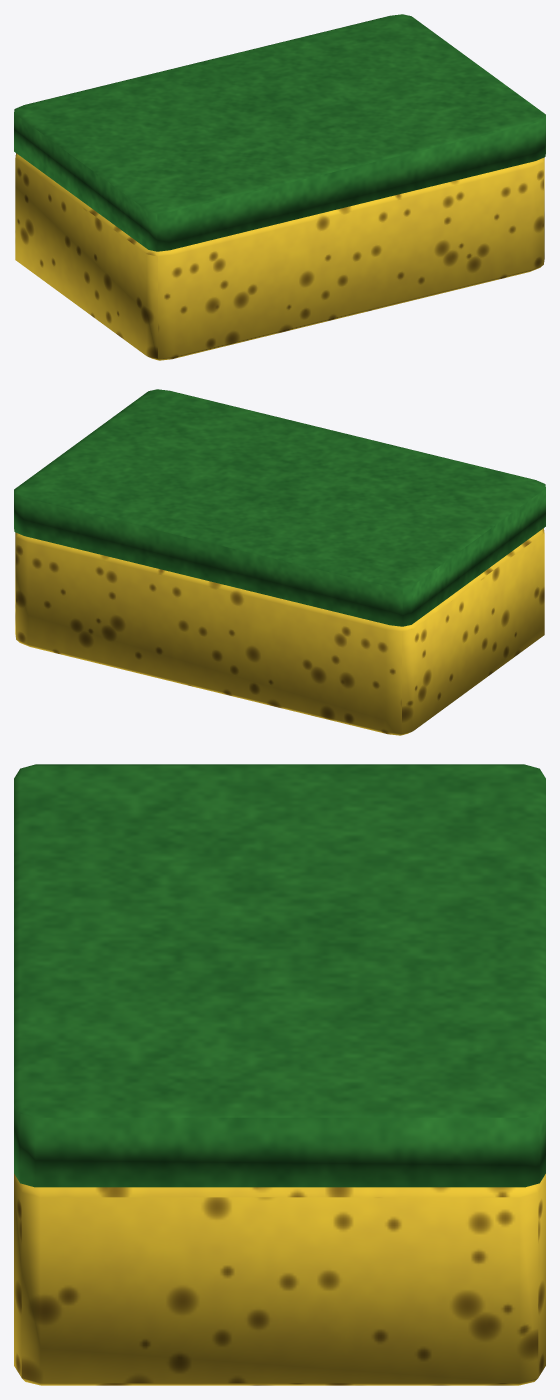
The model's file is kitchen_sponge.glb.
3 views of the same model, one above another, from view 1: azimuth 30°, elevation 25°; view 2: azimuth 150°, elevation 25°; view 3: azimuth 270°, elevation 25° (orthographic). The views are drawn at different scales.
Parts seen in each view (by area): view 1: Cube.001, Cube; view 2: Cube.001, Cube; view 3: Cube.001, Cube.
Part boxes in pixels (box(x1,y1,x2,y2)): Cube.001: box(14, 14, 545, 251); Cube: box(15, 153, 544, 360); Cube.001: box(14, 389, 545, 626); Cube: box(15, 528, 544, 735); Cube.001: box(14, 764, 545, 1187); Cube: box(14, 1174, 545, 1385).
Bounding box in the file's own units: 2.2 × 0.81 × 1.4.
Materials: 2 (2 with a texture image).
